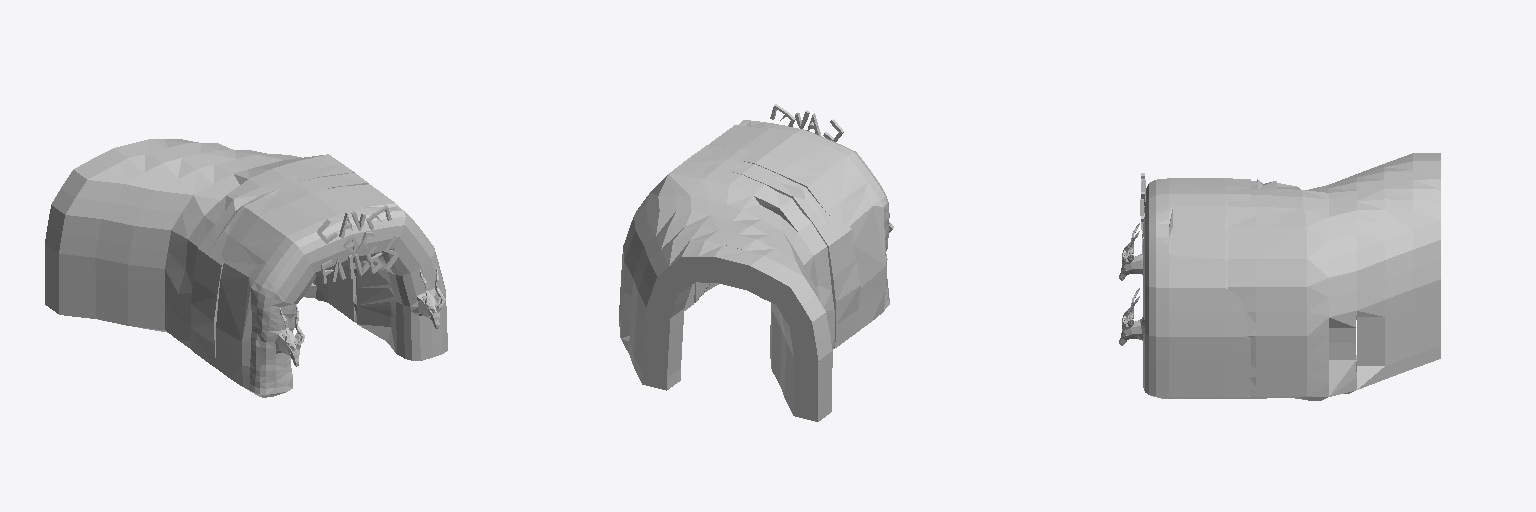
File: cavefinal.obj
3 views of the same model, side by side, from view 1: azimuth 30°, elevation 25°; view 2: azimuth 150°, elevation 25°; view 3: azimuth 270°, elevation 25° (orthographic).
Visible parts, largest first — view 1: Mesh_0; view 2: Mesh_0; view 3: Mesh_0.
Part boxes in pixels (bbox=[...]): Mesh_0: bbox=[45, 139, 447, 397]; Mesh_0: bbox=[619, 104, 893, 421]; Mesh_0: bbox=[1119, 153, 1440, 400].
Size of the model in its own units: 31.54 by 20.16 by 33.54.